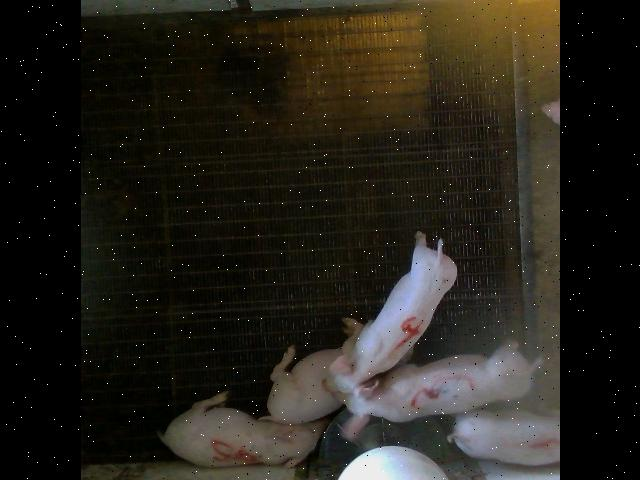pig-1: (446, 411, 559, 465)
pig-3: (338, 341, 541, 439)
pig-4: (326, 243, 456, 392)
pig-5: (158, 391, 328, 468)
